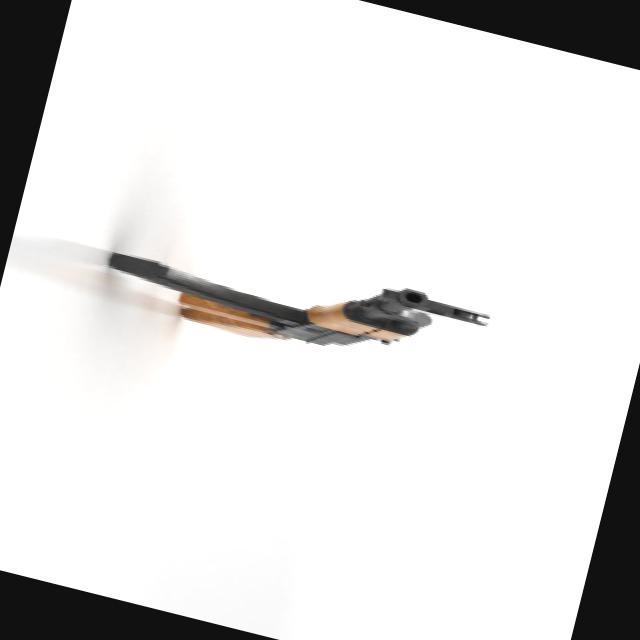long weapon: (88, 195, 507, 401)
